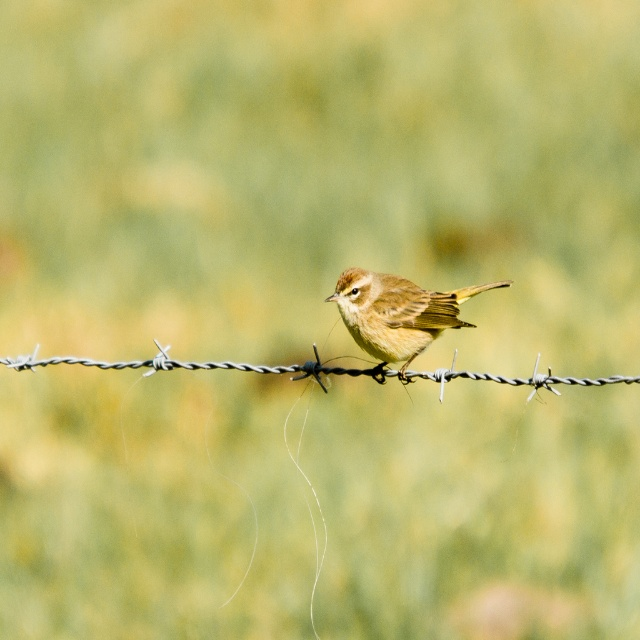Sparrow: (326, 267, 515, 385)
